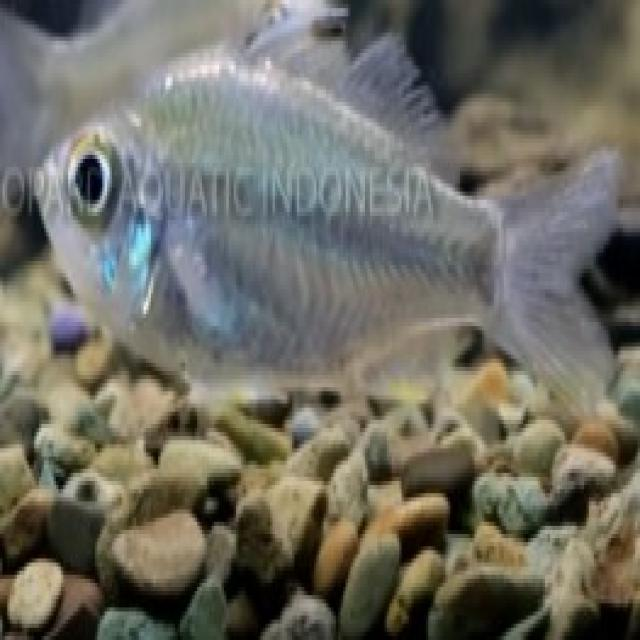Glass-Perchlet: (31, 0, 609, 477)
